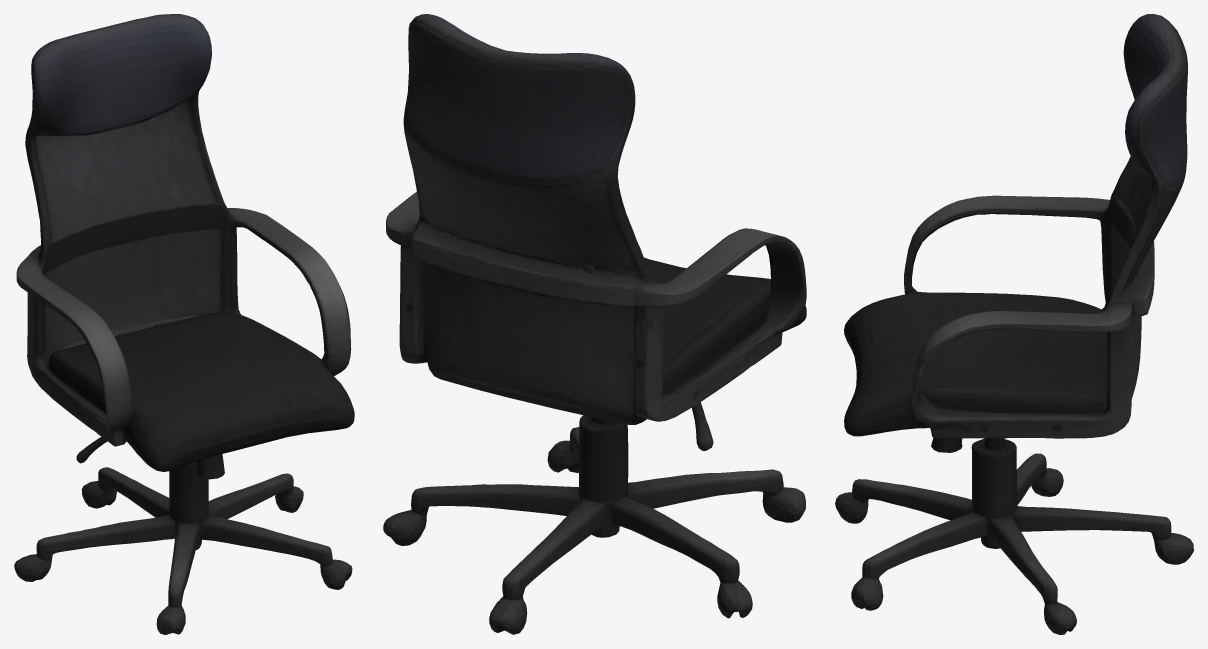
Rendered from mesh_office_chair.glb.
3 renders of one model, left to right at view 1: azimuth 30°, elevation 25°; view 2: azimuth 150°, elevation 25°; view 3: azimuth 270°, elevation 25°, orthographic. The views are drawn at different scales.
Parts seen in each view (by area): view 1: world; view 2: world; view 3: world.
Part boxes in pixels (bbox=[...]): world: bbox=[14, 14, 354, 634]; world: bbox=[383, 14, 806, 634]; world: bbox=[835, 14, 1193, 634].
Bounding box in the file's own units: 0.6405 × 1 × 0.6341.
1 material, 1 textured.
